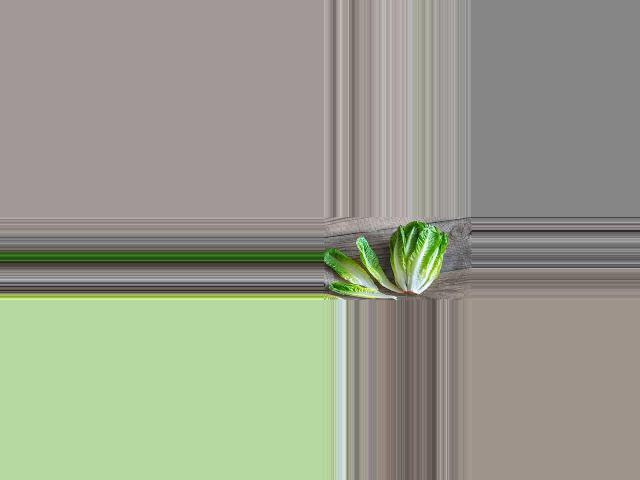lettuce: (386, 222, 449, 292)
